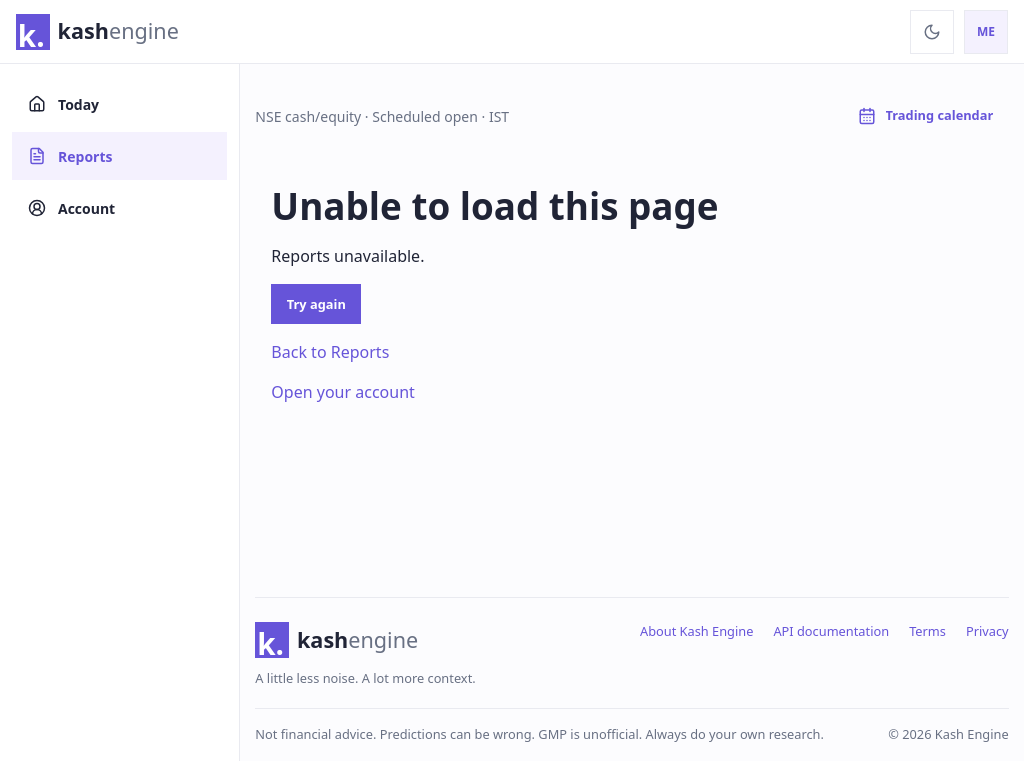
Test case: retries a failed Reports load successfully
Check: the heading "Unable to load this page" is shown, box [271,181,719,231]
What coordinates should you click on to do the following:
click the button "Try again"
I would click on:
 (316, 304)
Its box is [271,284,361,324].
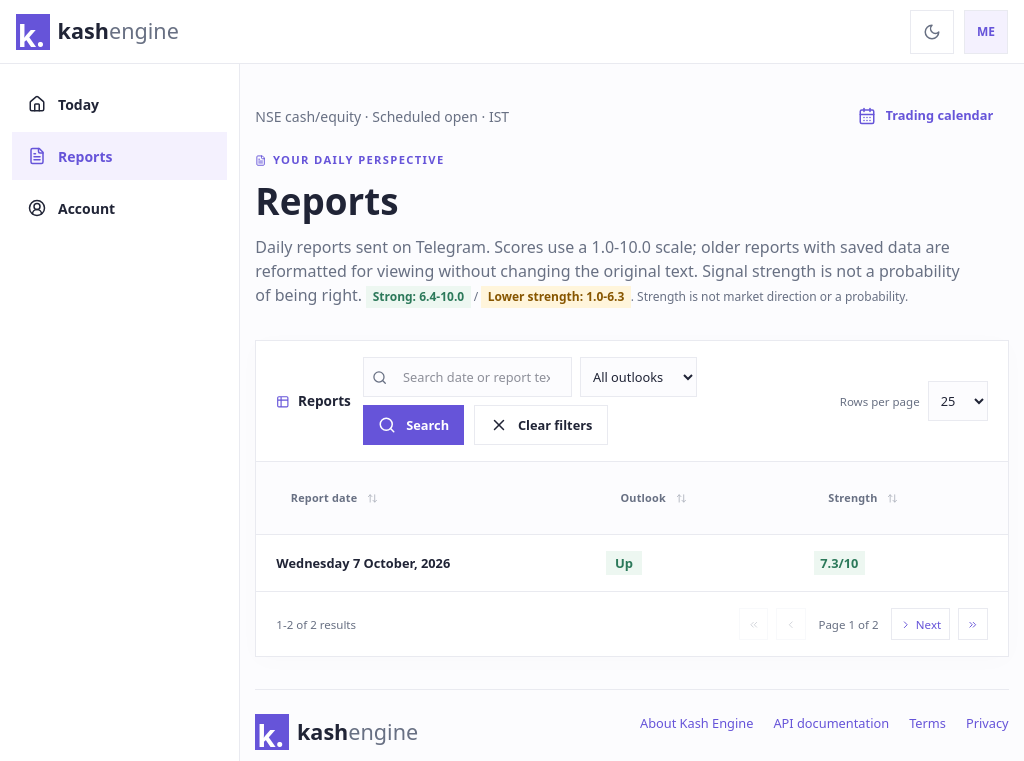
Check: the heading "Reports" is shown, box [255,176,398,226]
